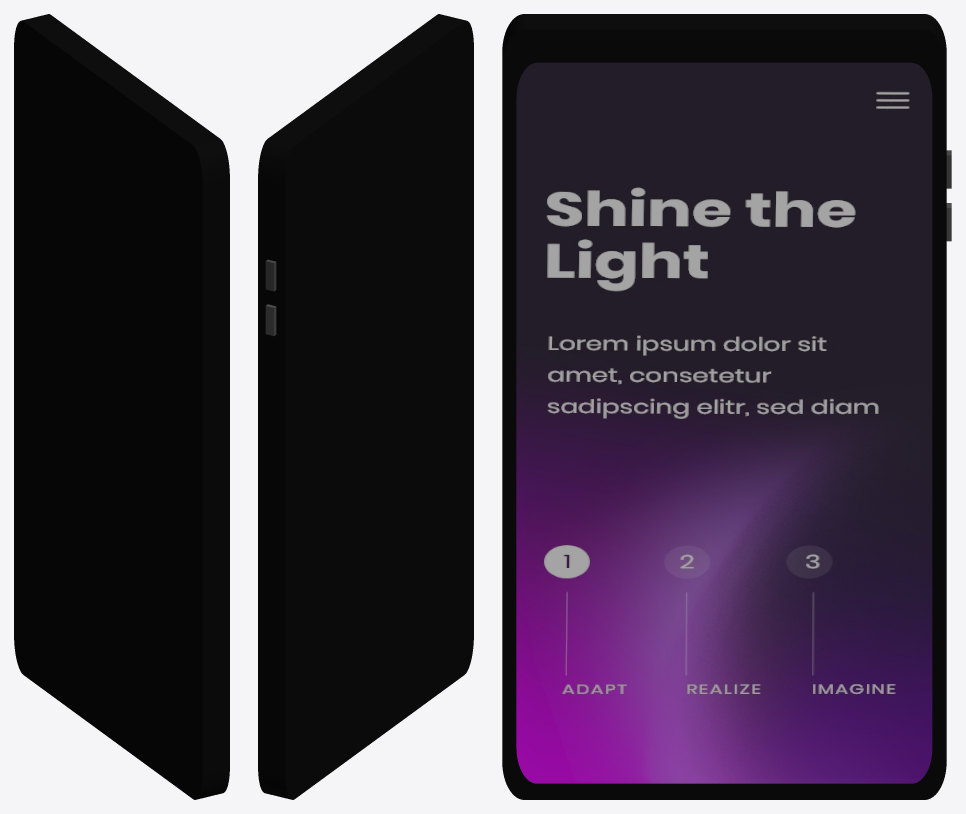
File: phone2.gltf
3 renders of one model, left to right at view 1: azimuth 30°, elevation 25°; view 2: azimuth 150°, elevation 25°; view 3: azimuth 270°, elevation 25°, orthographic. The views are drawn at different scales.
Parts seen in each view (by area): view 1: Plane; view 2: Plane; view 3: Plane.001, Plane.
Part boxes in pixels (x1,y1,x2,y2): Plane: (14, 14, 229, 799); Plane: (258, 14, 473, 799); Plane.001: (516, 62, 932, 783); Plane: (502, 14, 946, 799).
Size of the model in its own units: 0.1672 by 3.82 by 2.02.
Materials: 4 (1 with a texture image).
